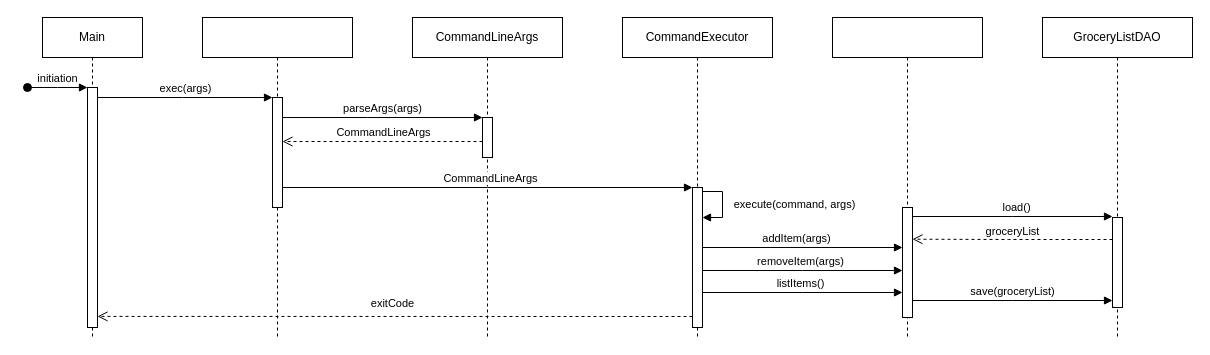
Some shapes in this 1210 by 355 pixel diagram are drawn without their labels. Here are the shapes that lost their labels. From the top down, the centre of each, then its label:
pixel 277 177: CommandLineProcessor
pixel 907 177: GroceryListManager
